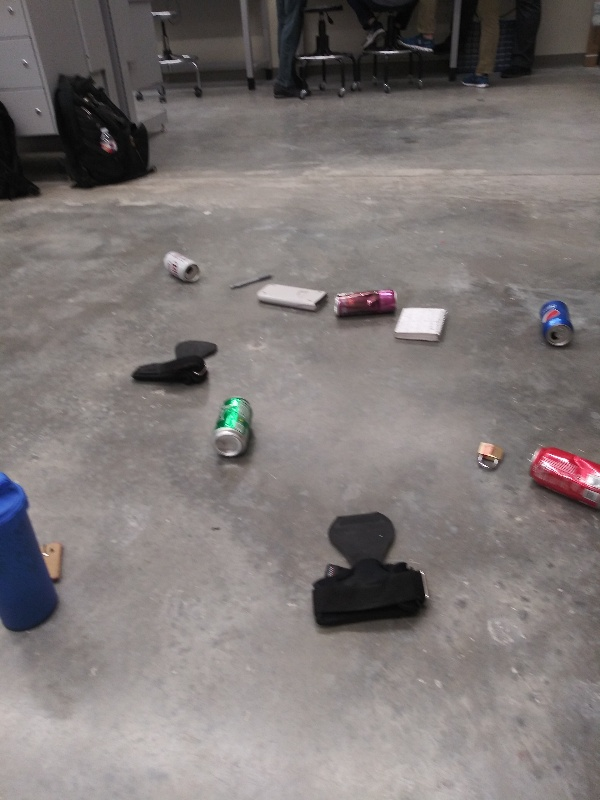can: (520, 443, 600, 509), (211, 394, 257, 461), (329, 286, 402, 322), (535, 297, 576, 352), (161, 248, 204, 288)
